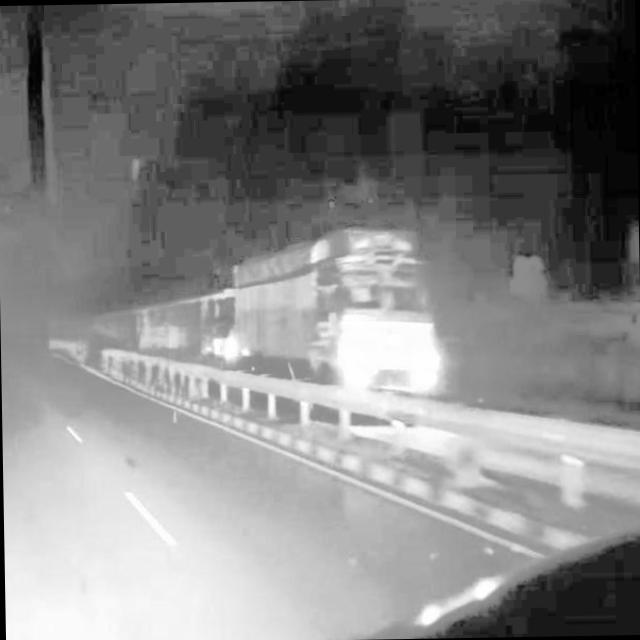Truck: (228, 224, 442, 401)
